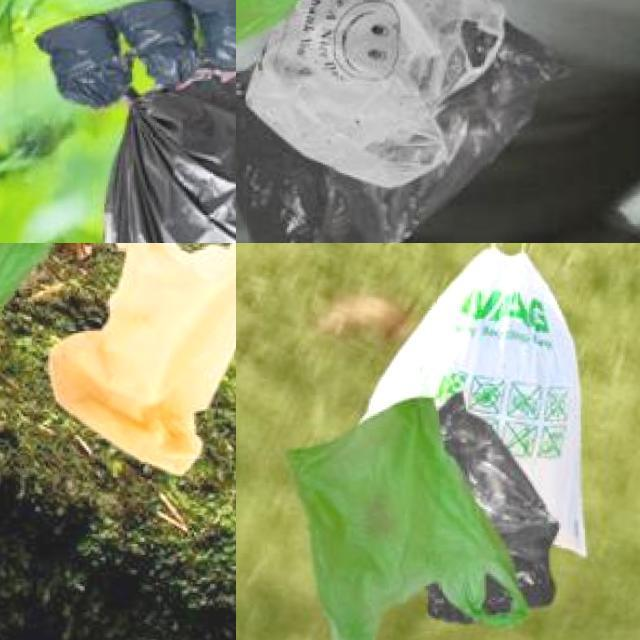waste: (277, 392, 563, 640), (236, 47, 554, 243), (255, 0, 515, 194), (57, 243, 236, 470), (92, 45, 236, 243), (44, 13, 130, 108), (118, 0, 196, 90), (186, 0, 236, 73)
